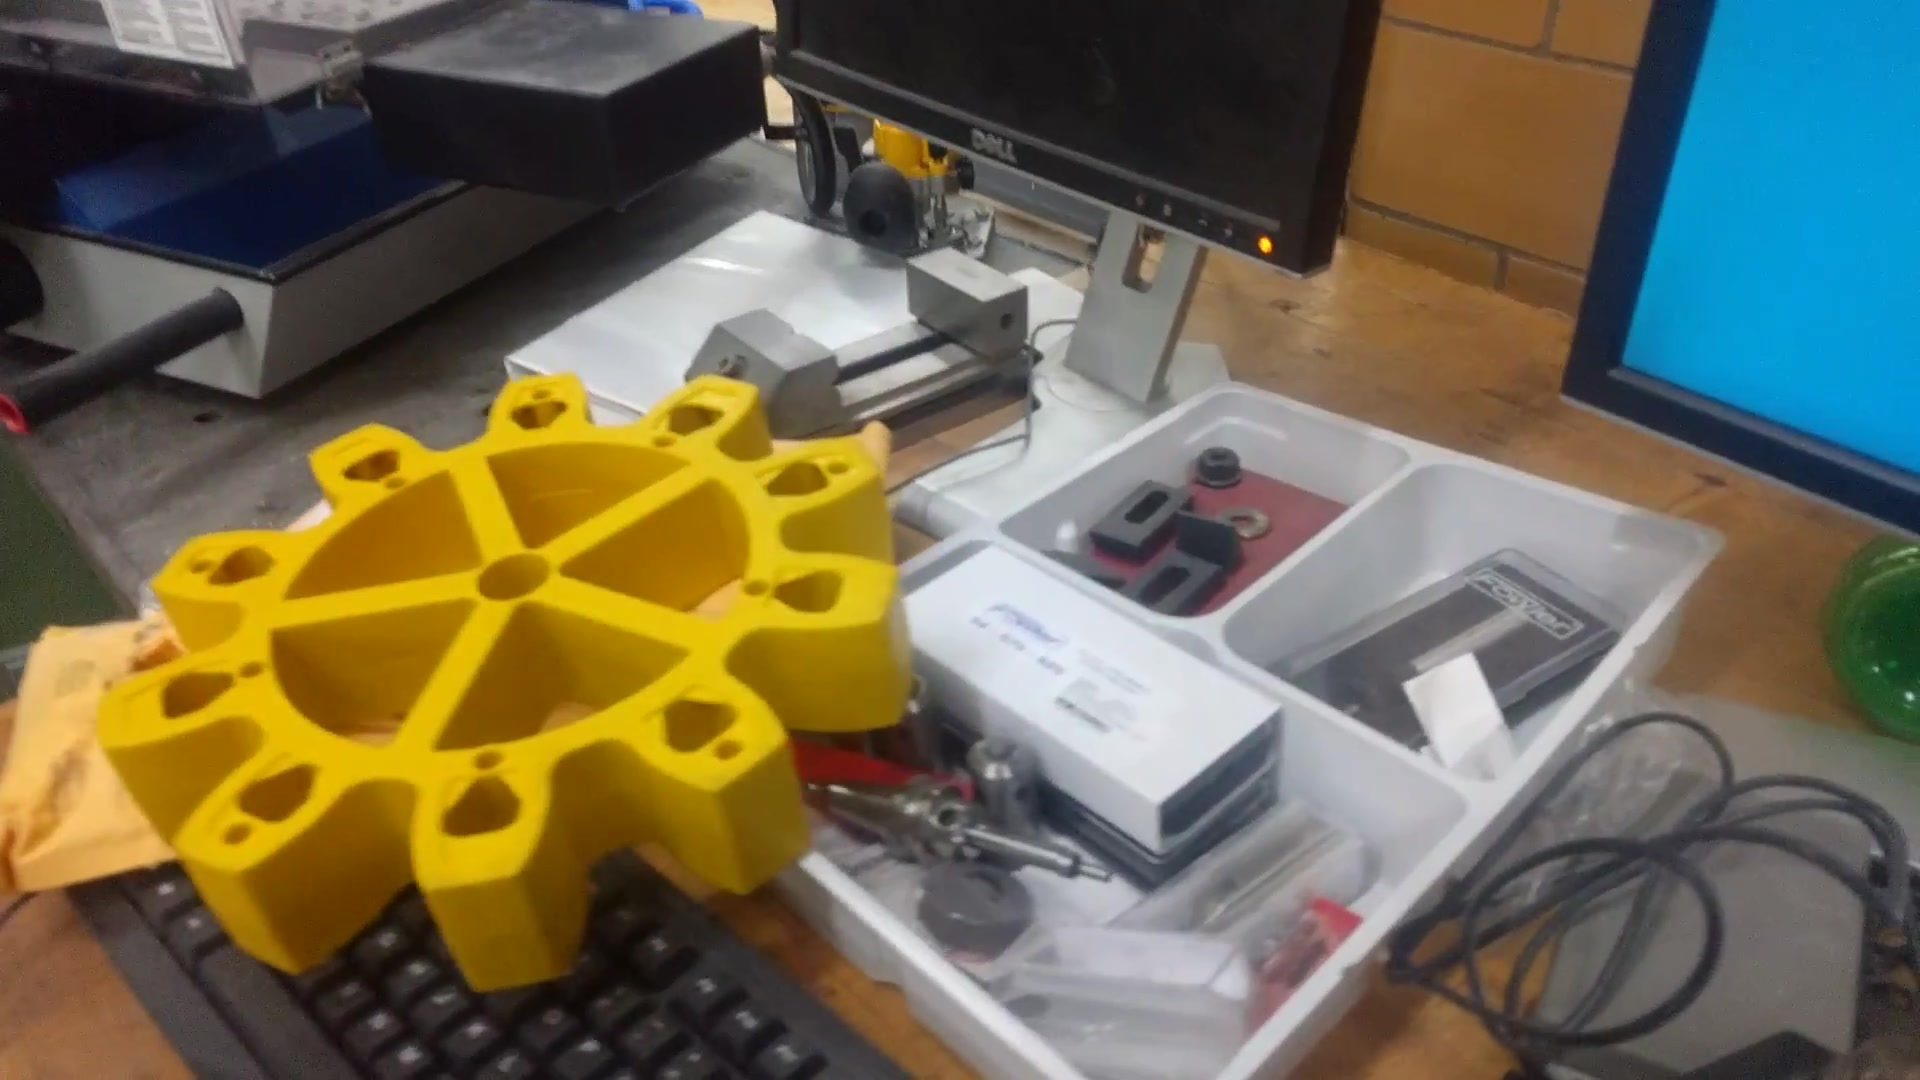gear: (102, 386, 952, 986)
